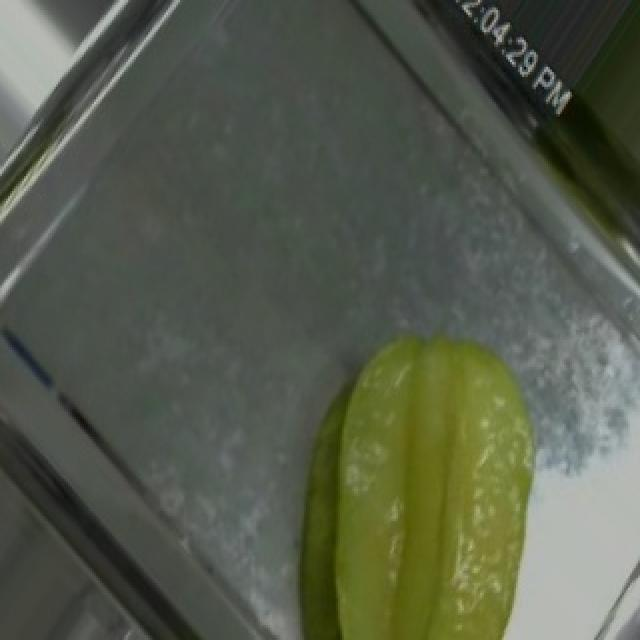fruit: (256, 278, 612, 640)
